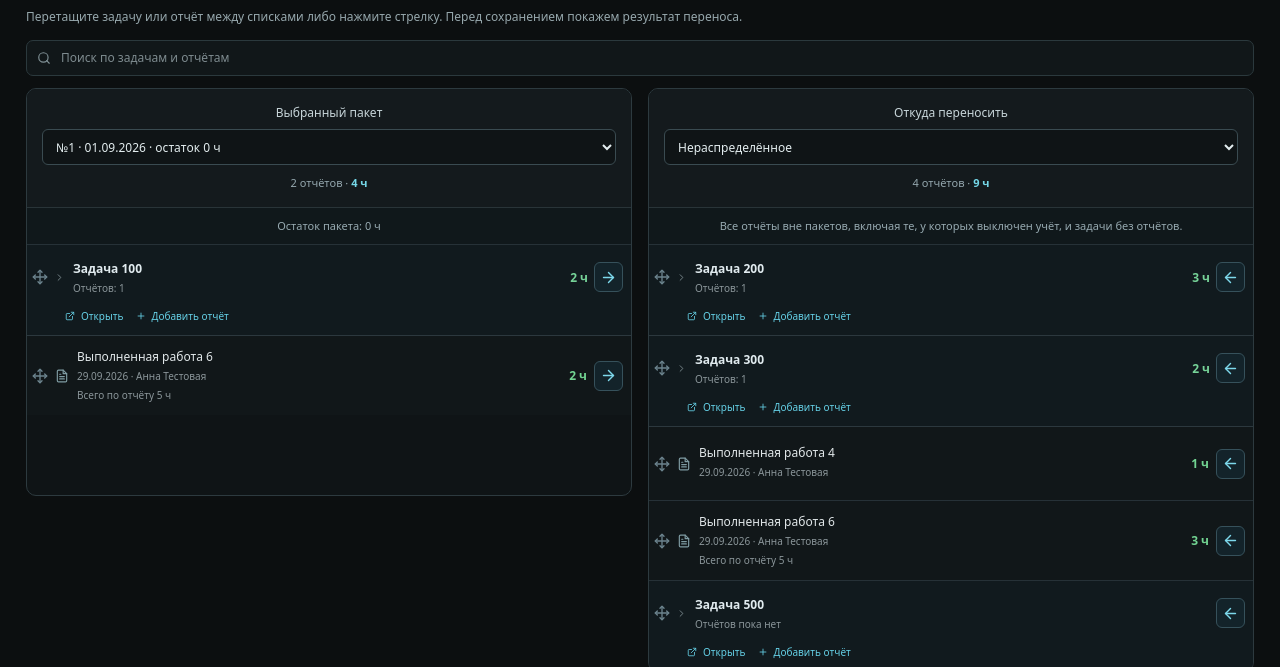
Test: two-list allocation workspace › shows two lists with selected-package hours and all unallocated work including unchecked and empty tasks
(page scrolled)
Expected: the text "4 ч" is shown, [351, 175, 368, 190]
Expected: the text "Задача 300" is shown, [695, 351, 764, 368]
Click the button with aria-label "Отчёты по задаче: Задача 300".
click(730, 359)  # box [673, 341, 1213, 395]
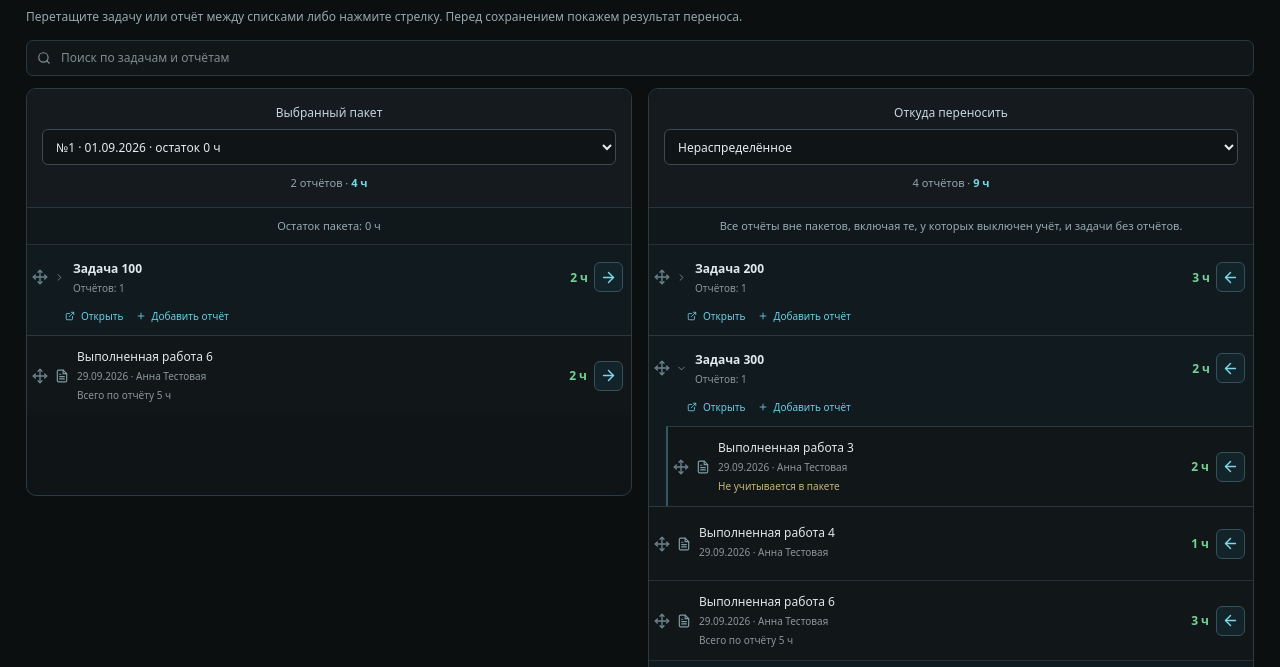
Result: the text "Не учитывается в пакете" is shown at [718, 479, 840, 494]
